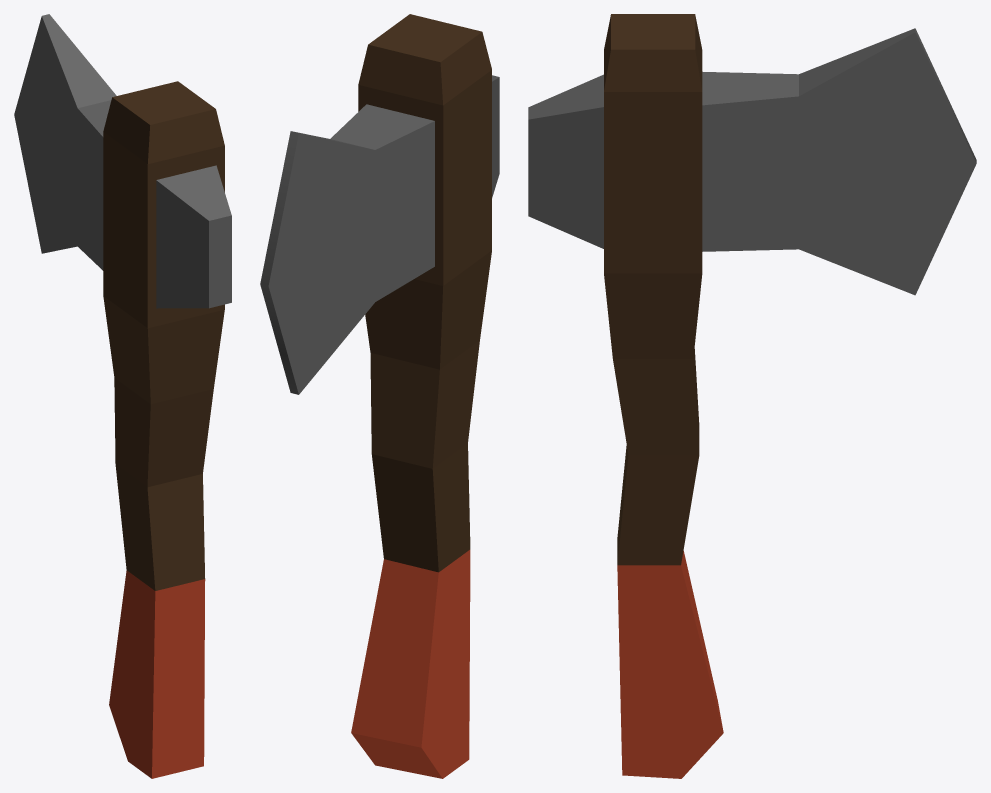
Rendered from axeoanV2.fbx.
3 views of the same model, side by side, from view 1: azimuth 30°, elevation 25°; view 2: azimuth 150°, elevation 25°; view 3: azimuth 270°, elevation 25° (orthographic). The views are drawn at different scales.
Visible parts, largest first — view 1: pCube1; view 2: pCube1; view 3: pCube1.
Boxes of the visible parts, <box> form: pCube1: <box>14,14,231,778</box>; pCube1: <box>260,14,499,778</box>; pCube1: <box>528,14,976,778</box>.
Bounding box in the file's own units: 7.24 × 59.32 × 32.95.
